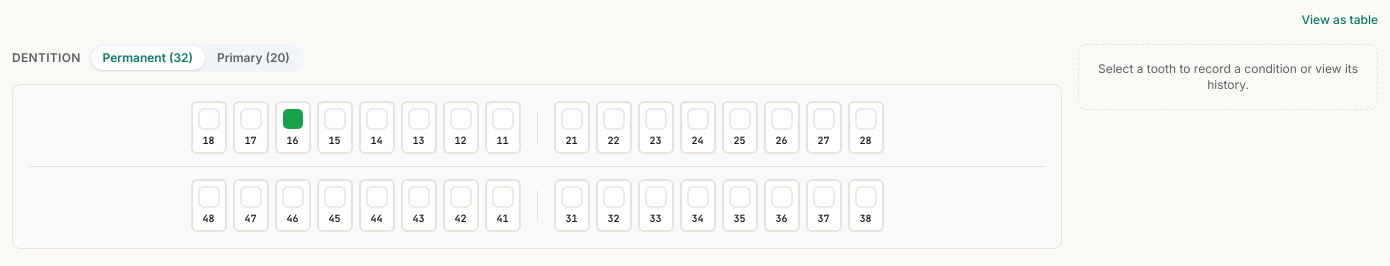
Test: OdontogramSection › falls back to the accessible table view and shows the same data
Check: the button named "Tooth 16, Healthy" is shown, box [274,101,310,154]
Click the button "View as table": (1340,20) [1302,12,1378,28]
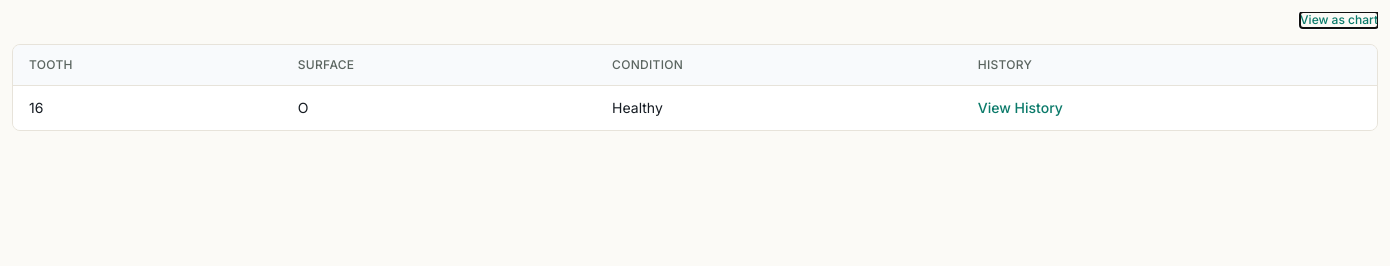
Check: the cell "16" is shown, box [13,86,282,130]
Check: the cell "Healthy" is shown, box [596,86,962,130]
